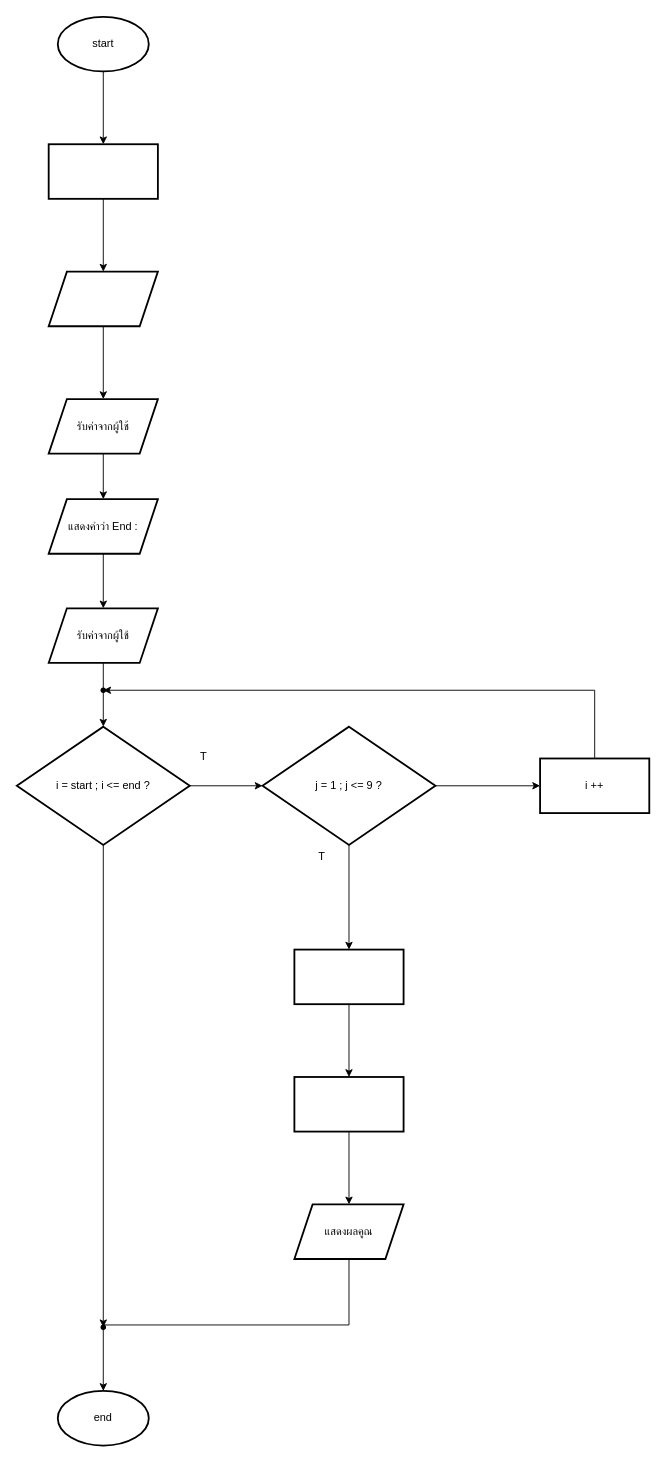
The diagram is 665 pixels wide and 1461 high, and some of its shapes have lost their labels. The shapes that lost their labels are listed below. From the top down, each one's centre as x and y in pixels, then its label:
pixel 102 171: กำหนดตัวแปร int start, end
pixel 102 298: แสดงคำว่า Start :
pixel 348 976: i * j
pixel 348 1104: j ++
